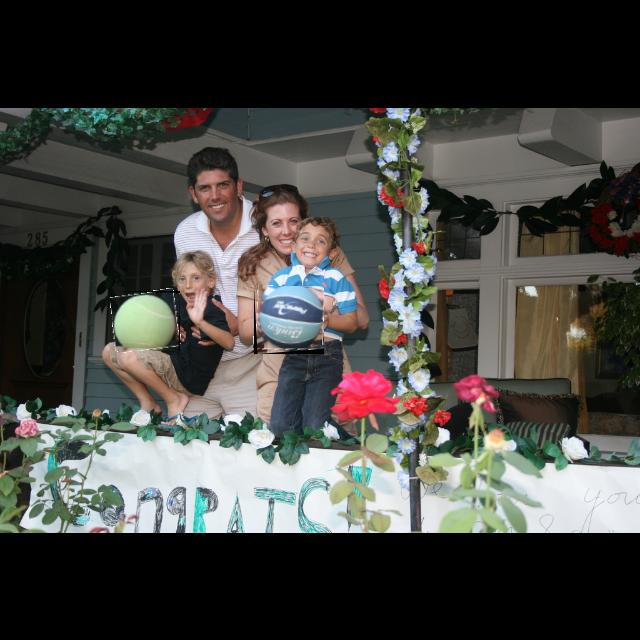Football: (254, 286, 324, 354), (112, 291, 180, 351)
